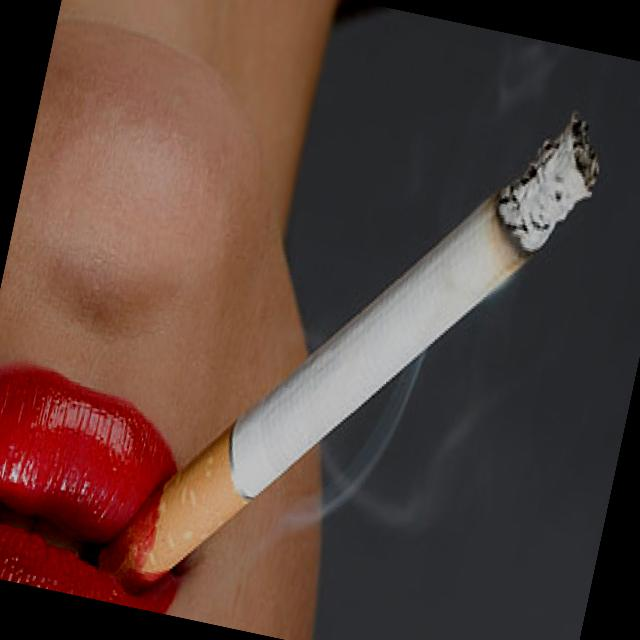smoke: (190, 51, 605, 600)
